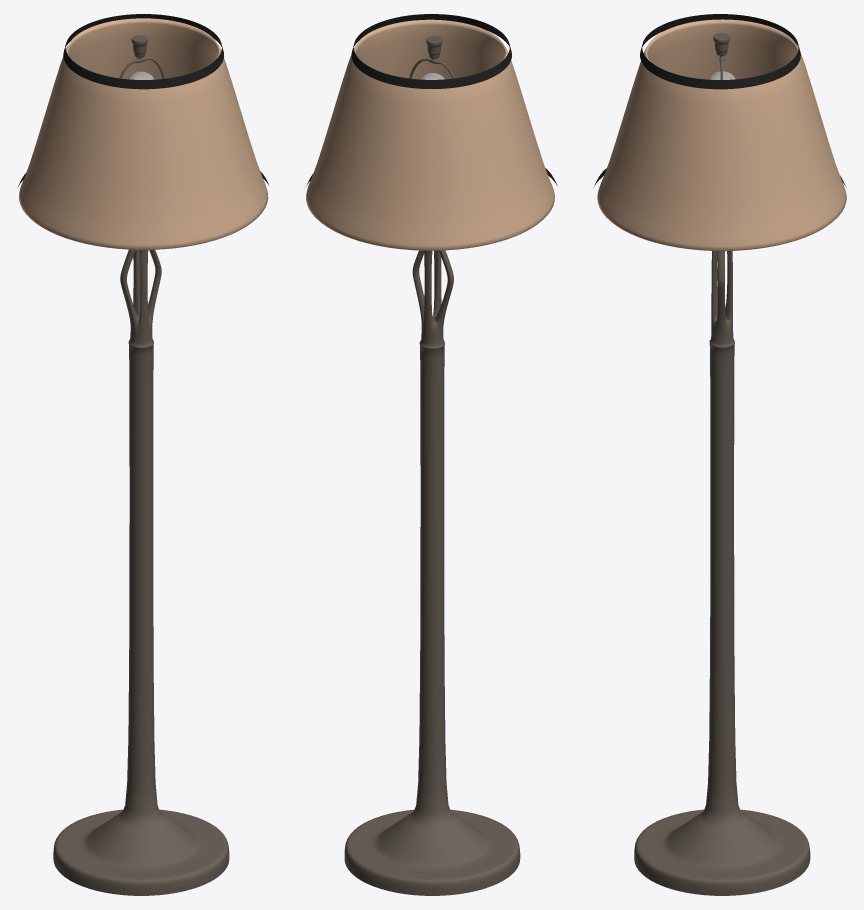
File: lamp-hd.fbx
3 renders of one model, left to right at view 1: azimuth 30°, elevation 25°; view 2: azimuth 150°, elevation 25°; view 3: azimuth 270°, elevation 25°, orthographic.
Visible parts, largest first — view 1: Circle.002, Circle, Circle.003; view 2: Circle.002, Circle, Circle.003; view 3: Circle.002, Circle, Circle.003.
Part boxes in pixels (bbox=[...]): Circle.002: bbox=[19, 18, 268, 249]; Circle: bbox=[53, 35, 229, 895]; Circle.003: bbox=[17, 14, 269, 187]; Circle.002: bbox=[306, 19, 554, 250]; Circle: bbox=[344, 36, 520, 895]; Circle.003: bbox=[305, 14, 557, 187]; Circle.002: bbox=[597, 19, 846, 250]; Circle: bbox=[634, 33, 810, 895]; Circle.003: bbox=[593, 14, 846, 187].
Bounding box in the file's own units: 264 × 919 × 264.
